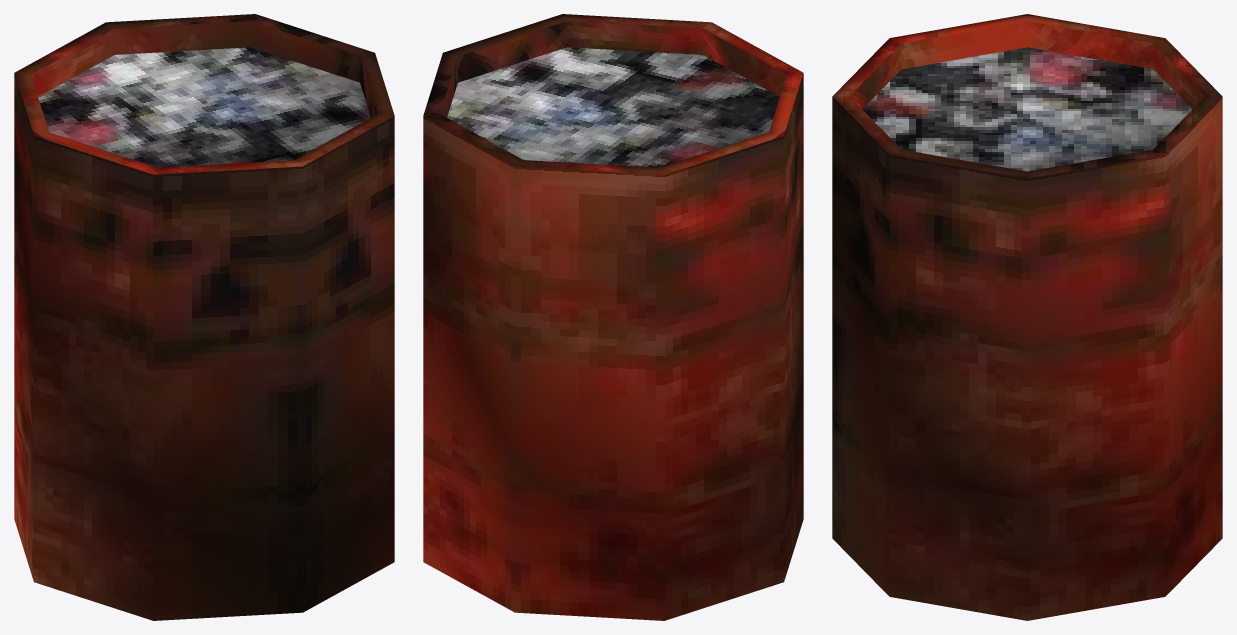
File: w_barrel.glb
The picture shows the model from 3 angles, left to right: view 1: azimuth 30°, elevation 25°; view 2: azimuth 150°, elevation 25°; view 3: azimuth 270°, elevation 25°; orthographic projection.
Visible parts, largest first — view 1: Barrel; view 2: Barrel; view 3: Barrel.
Part boxes in pixels (x1=…): Barrel: x1=14, y1=14, x2=394, y2=620; Barrel: x1=423, y1=14, x2=803, y2=620; Barrel: x1=832, y1=14, x2=1222, y2=620.
Size of the model in its own units: 0.8 by 1 by 0.8.
Materials: 1 (1 with a texture image).
